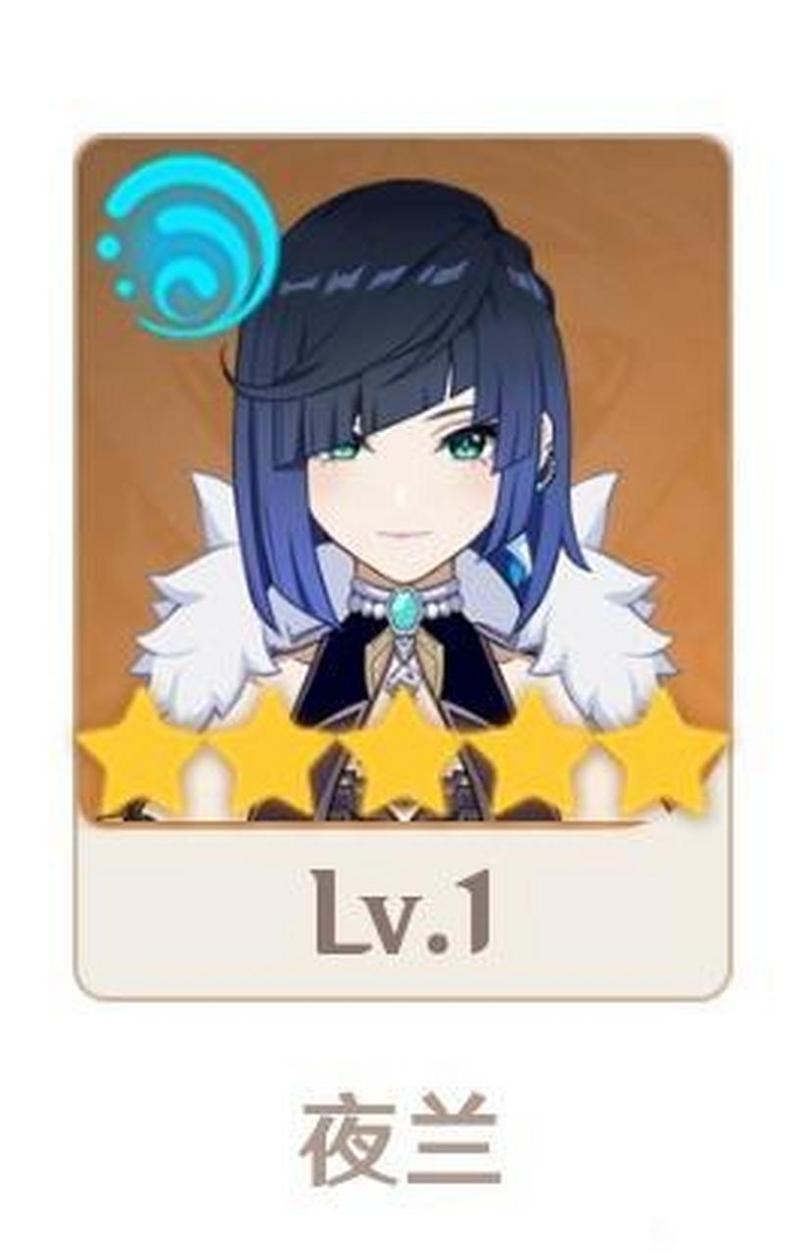夜兰: (124, 191, 679, 832)
